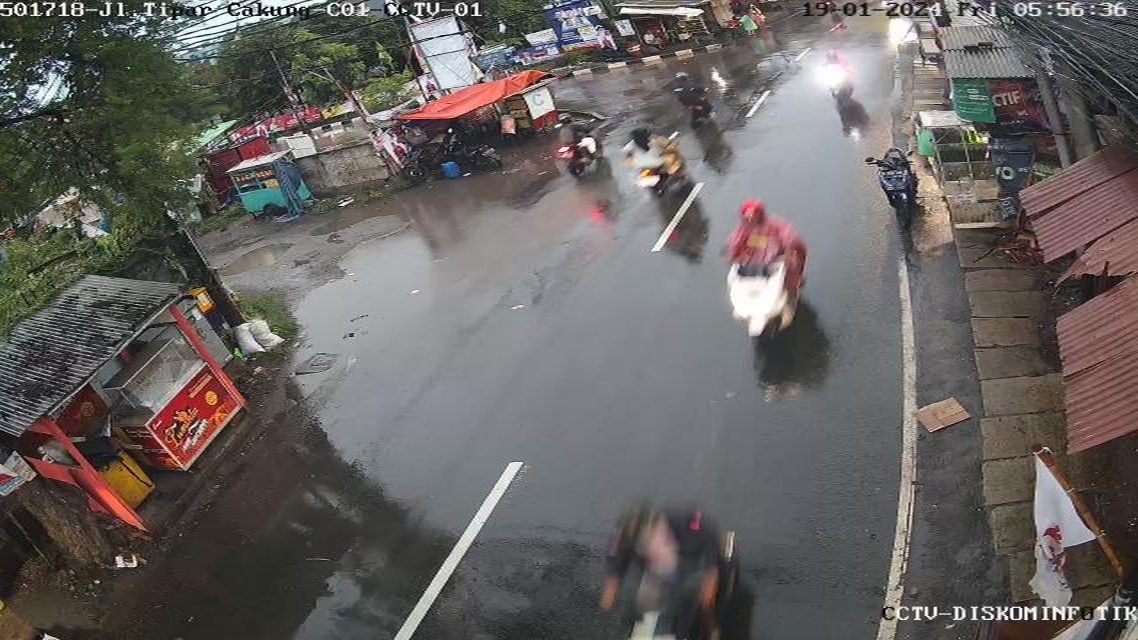Gerobak: (0, 261, 257, 544), (84, 348, 245, 461), (206, 144, 336, 233), (491, 83, 555, 150)
